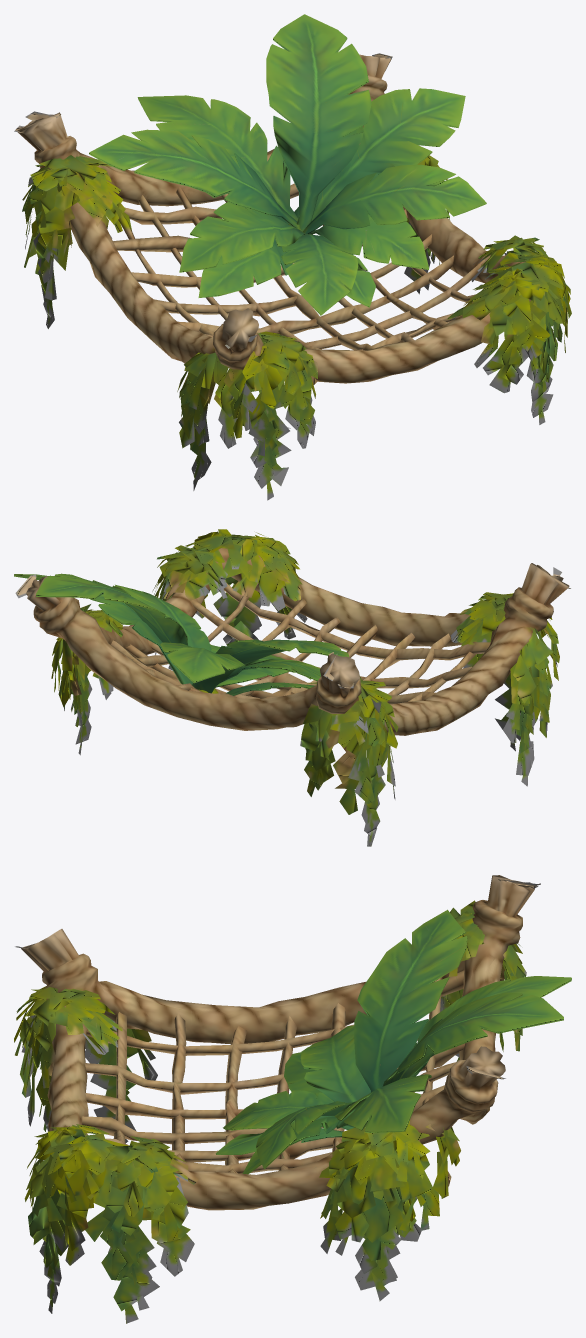
File: hammock.glb
3 renders of one model, top to bottom at view 1: azimuth 30°, elevation 25°; view 2: azimuth 150°, elevation 25°; view 3: azimuth 270°, elevation 25°, orthographic. The views are drawn at different scales.
Parts seen in each view (by area): view 1: geometry_0; view 2: geometry_0; view 3: geometry_0.
Boxes of the visible parts, x1=… form: geometry_0: x1=14, y1=14, x2=571, y2=500; geometry_0: x1=14, y1=529, x2=570, y2=846; geometry_0: x1=14, y1=875, x2=571, y2=1323.
Bounding box in the file's own units: 0.9233 × 0.562 × 0.9429.
1 material, 1 textured.
